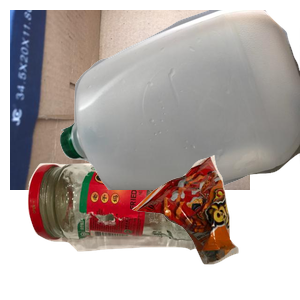cardboard: (10, 10, 250, 190)
glass: (25, 155, 227, 300)
plastic: (60, 10, 300, 190)
trash: (130, 153, 300, 300)
